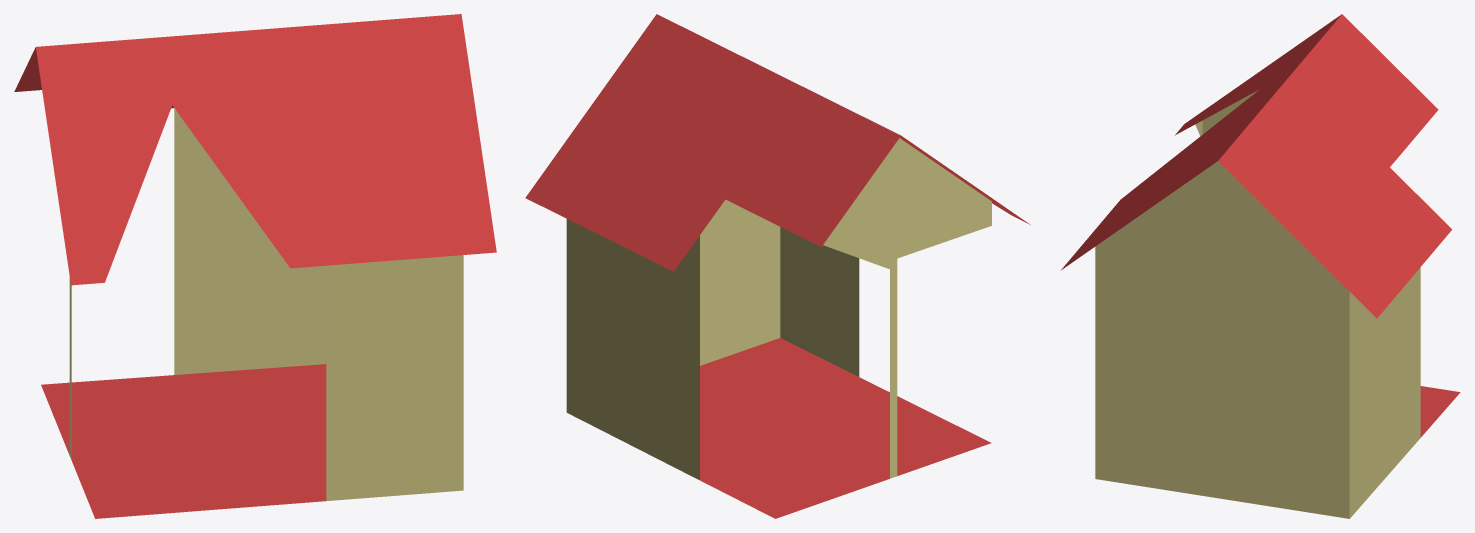
3 renders of one model, left to right at view 1: azimuth 30°, elevation 25°; view 2: azimuth 150°, elevation 25°; view 3: azimuth 270°, elevation 25°, orthographic. The views are drawn at different scales.
Size of the model in its own units: 14.5 by 12.6 by 12.05.
